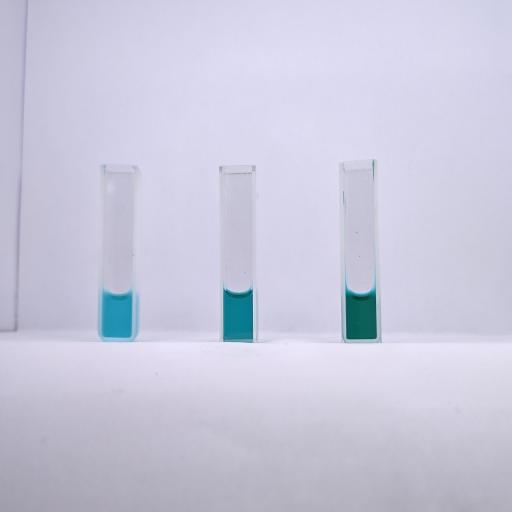cuvette: (338, 157, 384, 344), (96, 162, 140, 343), (218, 164, 259, 344)
liquid: (346, 290, 376, 340), (223, 290, 253, 339), (102, 290, 132, 338)
